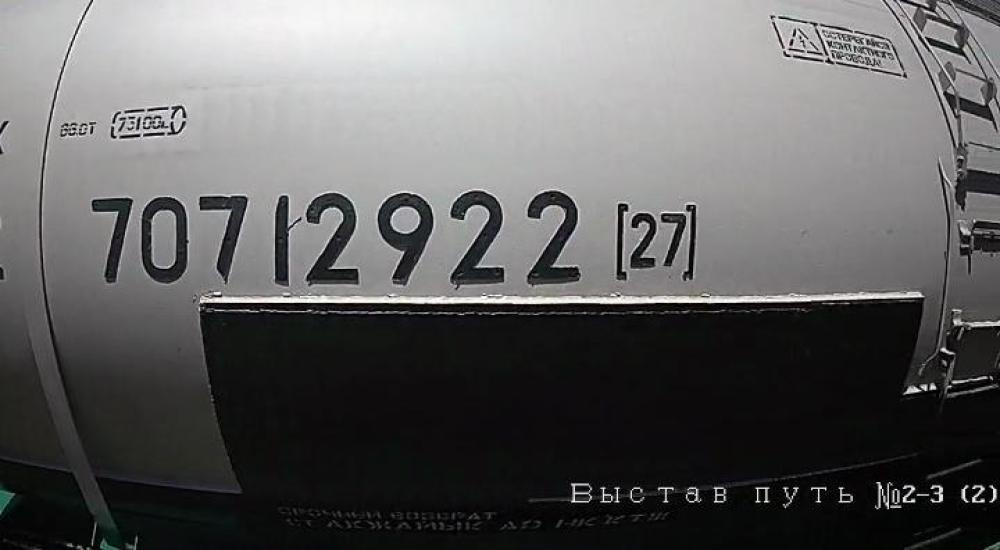Wagon-number: (82, 188, 590, 288)
